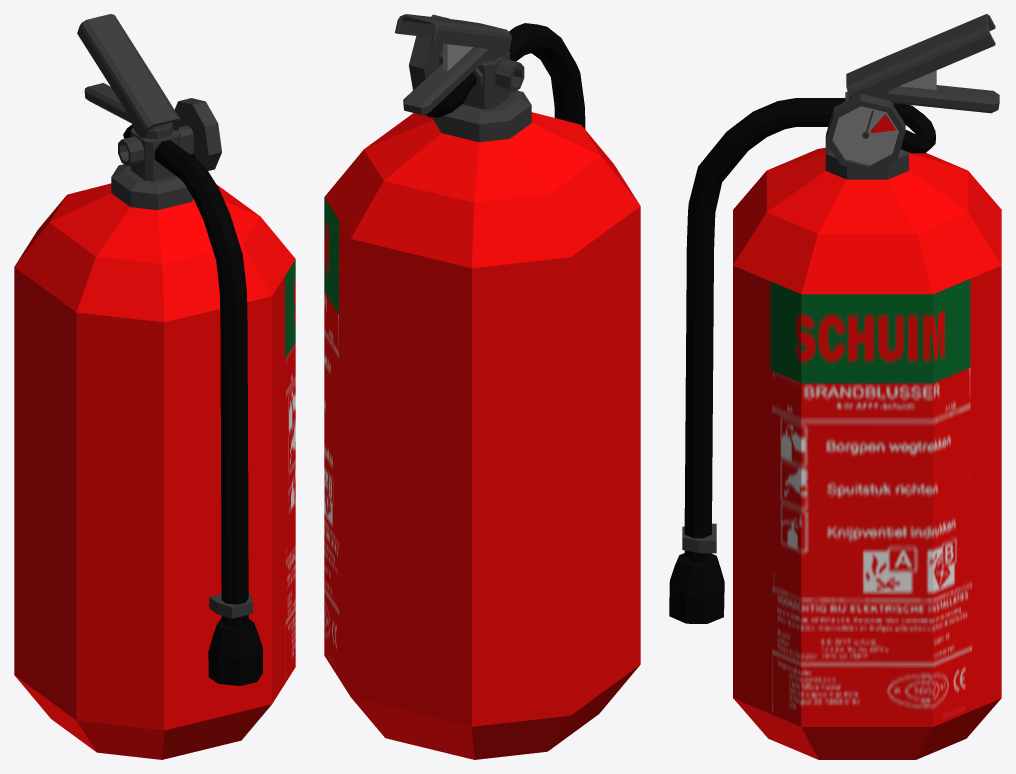
File: schuimblusser.fbx
3 views of the same model, side by side, from view 1: azimuth 30°, elevation 25°; view 2: azimuth 150°, elevation 25°; view 3: azimuth 270°, elevation 25° (orthographic). The views are drawn at different scales.
Visible parts, largest first — view 1: Cube.001; view 2: Cube.001; view 3: Cube.001.
Boxes of the visible parts, x1=… form: Cube.001: x1=14, y1=14, x2=295, y2=759; Cube.001: x1=324, y1=14, x2=640, y2=759; Cube.001: x1=669, y1=14, x2=1001, y2=759.
Size of the model in its own units: 470 by 1388 by 581.
Materials: 5 (1 with a texture image).
